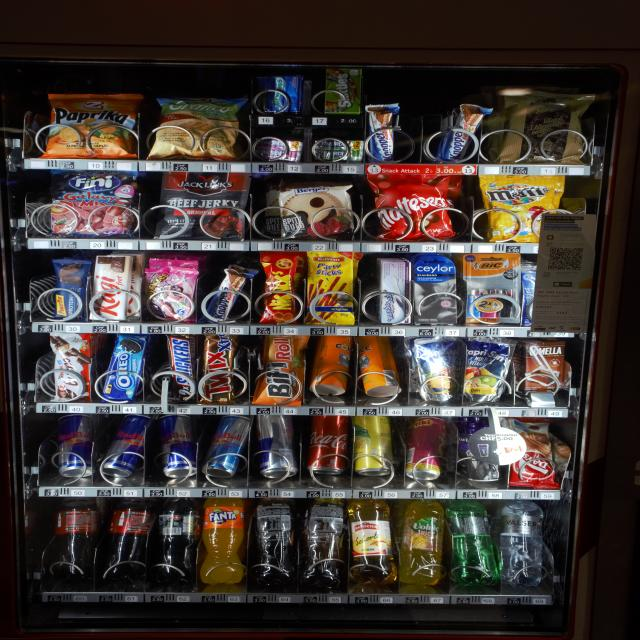7days_croissantschoko_packung_80_1_0000000000003: (505, 416, 558, 486)
airwaves_menthoneucalyptus_riegel_14_1_50173167: (264, 75, 296, 116)
berger_spitzbueb___: (270, 176, 364, 238)
bifi_roll__50__4251097402635: (254, 332, 310, 407)
bueno___43__4008400320328: (48, 332, 96, 406)
c-swiss_dosenabisicetea__33__9120025930135: (351, 330, 406, 400), (309, 332, 353, 398)
caferoyal_classicmacchiato__33__7617014164487: (458, 418, 504, 490)
caprisun_multivitamin__20__4000177605004: (463, 334, 517, 404), (409, 336, 464, 402)
coke__dose_33__54491472: (308, 413, 350, 477)
coke__flasche_50__54491472: (102, 499, 152, 590), (48, 496, 98, 582)
coke_zero_flasche_50__5449000131836: (150, 497, 198, 588)
comella_schokodrink__33__7613100037253: (519, 338, 571, 399)
fanta___50__40822938: (198, 495, 252, 587)
fini_galaxymix_packung_100_1_8410525150364: (52, 169, 138, 238)
fini_jellykisses_packung_80_1_8410525116704: (148, 262, 201, 324)
fuse_lemon_dose_33__5449000235947: (350, 414, 396, 476)
jacklinks_beefjerkyorginal__25__4047751730219: (146, 167, 255, 241)
jlbrichard_gauffrechoko__90__5410495002079: (503, 86, 585, 166)
kagi___50__7610046000259: (89, 253, 132, 320)
knoppers_riegel____4035800488808: (426, 98, 497, 162), (356, 103, 414, 165), (197, 264, 251, 327)
lorenz_nicnacs__40__4018077798818: (256, 250, 303, 328)
malburner_partysticks__40__7610200279682: (302, 247, 357, 327)
maltesers___100__5000159023061: (366, 171, 462, 241)
mnms_gelb__45__40111445: (476, 173, 572, 244)
oreo___66__84100733: (96, 332, 150, 404)
powerbar_proteinplusschoko__55__4029679520028: (45, 258, 88, 322)
ramseier_schorle__50__7610057012456: (344, 496, 402, 586)
redbull___33__90162909: (97, 414, 152, 481), (51, 412, 101, 481), (156, 414, 197, 479)
redbull_light__33__90162800: (200, 412, 260, 479)
skittles_sour_riegel_51_1_: (320, 66, 365, 114)
snickers___50__5000159461122: (168, 332, 198, 405)
tiki_himbeerbrause_dose_33_1_: (406, 415, 449, 484)
twix___50__5000159459228: (198, 329, 243, 406)
valser_classic__50__76404160: (444, 497, 496, 592)
valser_still__50__7610335002575: (498, 499, 546, 587)
volvic_pinapple__50__305764335648: (401, 497, 450, 590)
zweifel_graneochilli__100__7610095184009: (145, 84, 252, 167)
zweifel_paprika__90__7610095013002: (35, 89, 149, 160)
